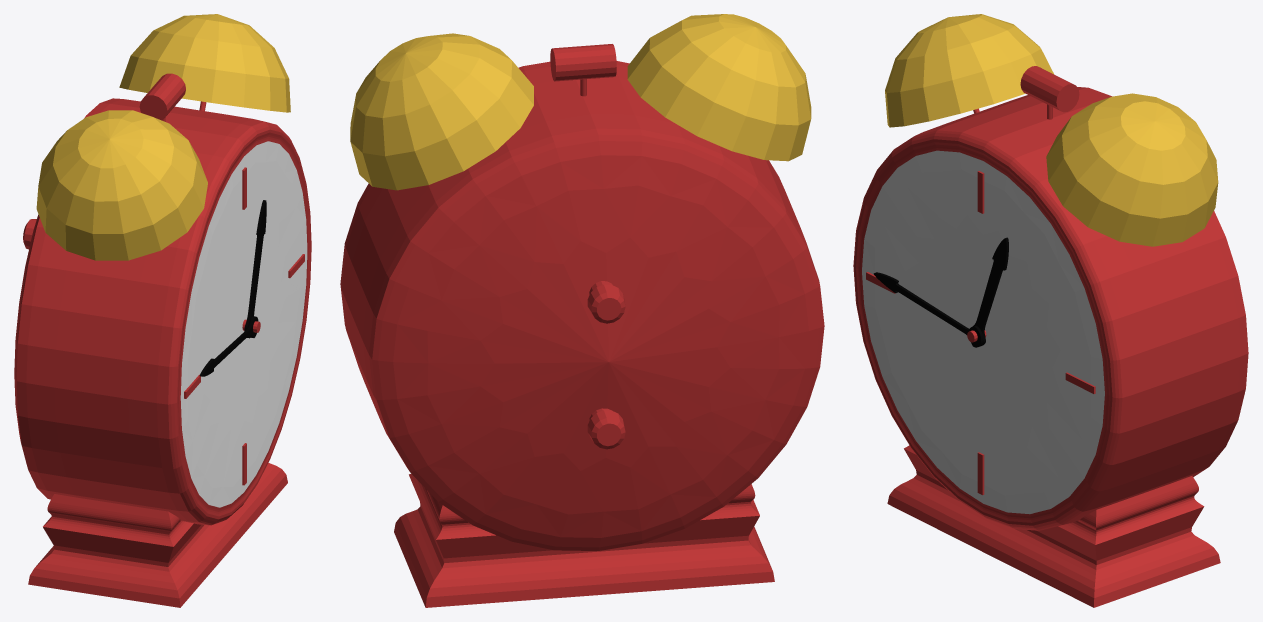
The model's file is Alarm Clock.obj.
3 renders of one model, left to right at view 1: azimuth 30°, elevation 25°; view 2: azimuth 150°, elevation 25°; view 3: azimuth 270°, elevation 25°, orthographic. The views are drawn at different scales.
Visible parts, largest first — view 1: Cylinder05, Sphere02, Rectangle03, Sphere03, Cylinder06, Circle05, Circle06; view 2: Cylinder05, Rectangle03, Sphere03, Sphere02, Cylinder06, Cylinder06_1, Cylinder07; view 3: Cylinder05, Rectangle03, Sphere03, Sphere02, Cylinder06, Circle05, Circle06.
Part boxes in pixels (x1,y1,x2,y2): Cylinder05: (14,98,311,525); Sphere02: (36,110,207,260); Rectangle03: (28,463,287,607); Sphere03: (119,14,290,112); Cylinder06: (139,73,185,120); Circle05: (244,200,266,338); Circle06: (199,316,258,376); Cylinder05: (340,61,824,550); Rectangle03: (394,473,774,607); Sphere03: (350,33,533,190); Sphere02: (627,14,811,161); Cylinder06: (550,44,616,81); Cylinder06_1: (587,281,625,323); Cylinder07: (587,408,625,449); Cylinder05: (853,87,1248,530); Rectangle03: (887,445,1220,607); Sphere03: (1046,93,1218,246); Sphere02: (885,14,1054,127); Cylinder06: (1020,66,1079,112); Circle05: (970,237,1008,345); Circle06: (873,272,983,347).
Bounding box in the file's own units: 190 × 233 × 176.
